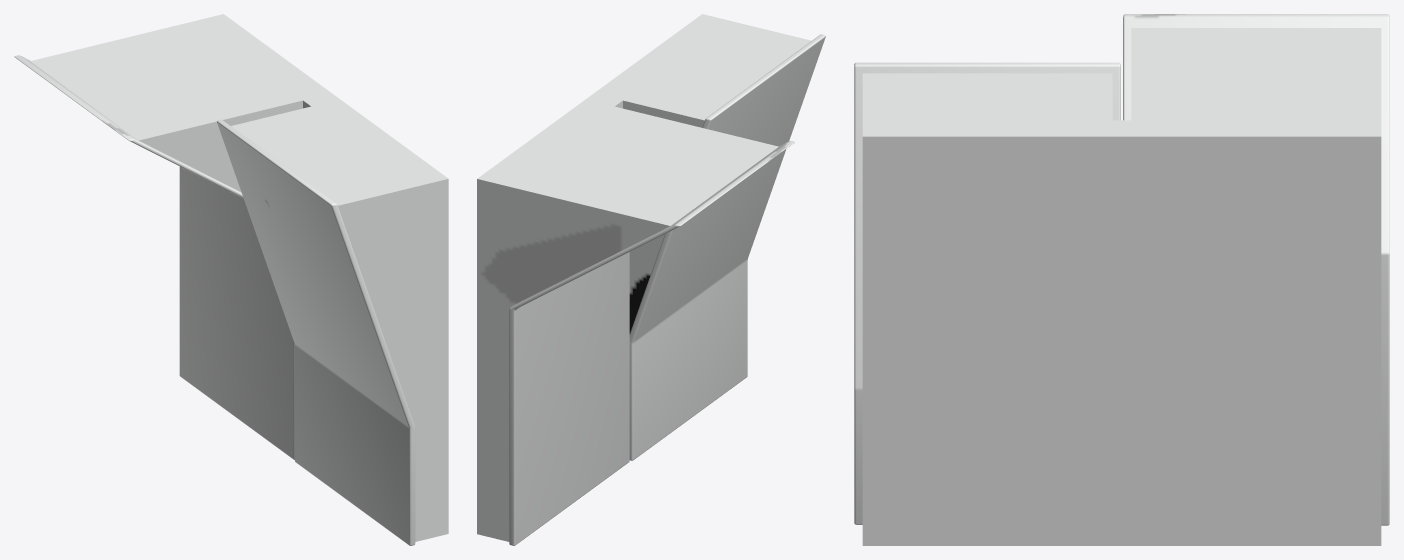
File: Wall Test.FBX
3 views of the same model, side by side, from view 1: azimuth 30°, elevation 25°; view 2: azimuth 150°, elevation 25°; view 3: azimuth 270°, elevation 25° (orthographic). The views are drawn at different scales.
Visible parts, largest first — view 1: Object010; view 2: Object010; view 3: Object010.
Part boxes in pixels (left/top/right/bottom): Object010: left=14, top=14, right=448, bottom=545; Object010: left=477, top=14, right=825, bottom=545; Object010: left=854, top=14, right=1389, bottom=545.
Size of the model in its own units: 5.91 by 9.86 by 11.5.
